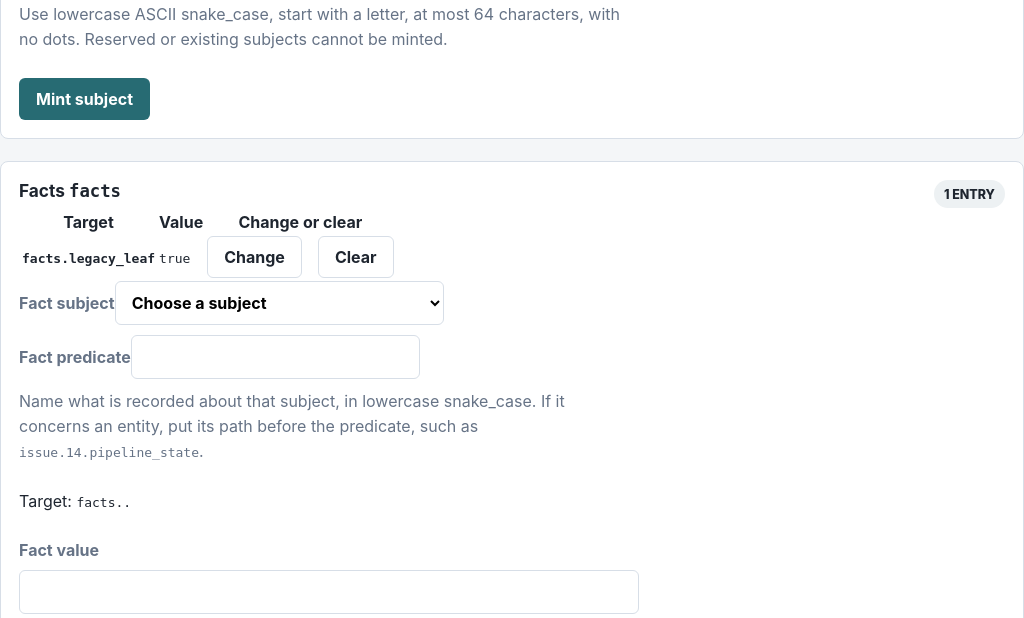
Test: refreshes reference counts after an authored value and again after its explicit clear
(page scrolled)
Select "teapot" in the dropdown labelled "Fact subject" at point(279, 303), box [115,281,444,325]
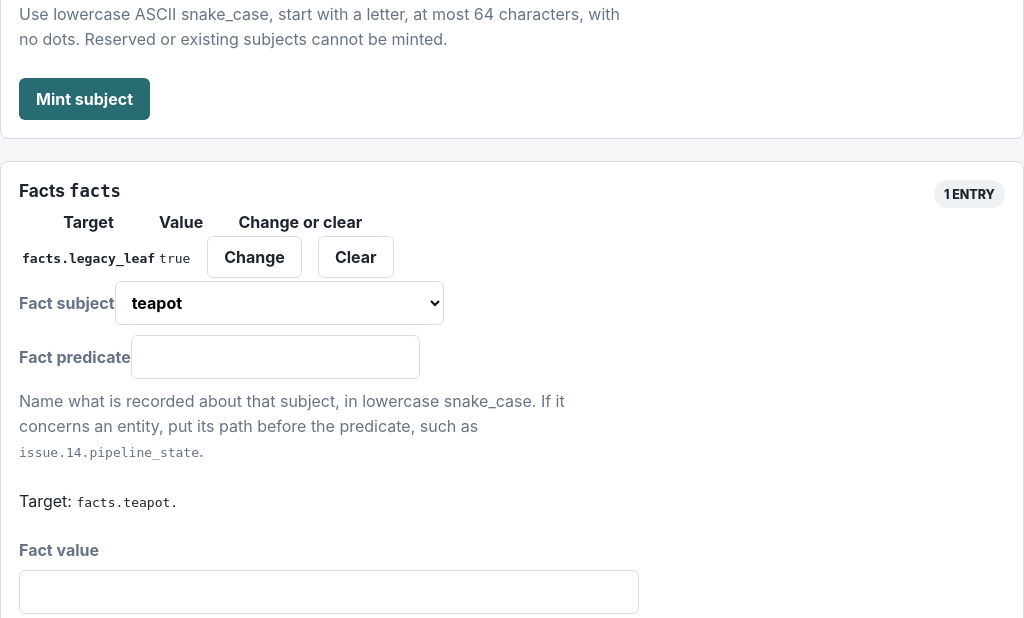
Type "ready" into the field labelled "Fact predicate".
click(275, 357); type("ready")  # box [131,335,420,379]
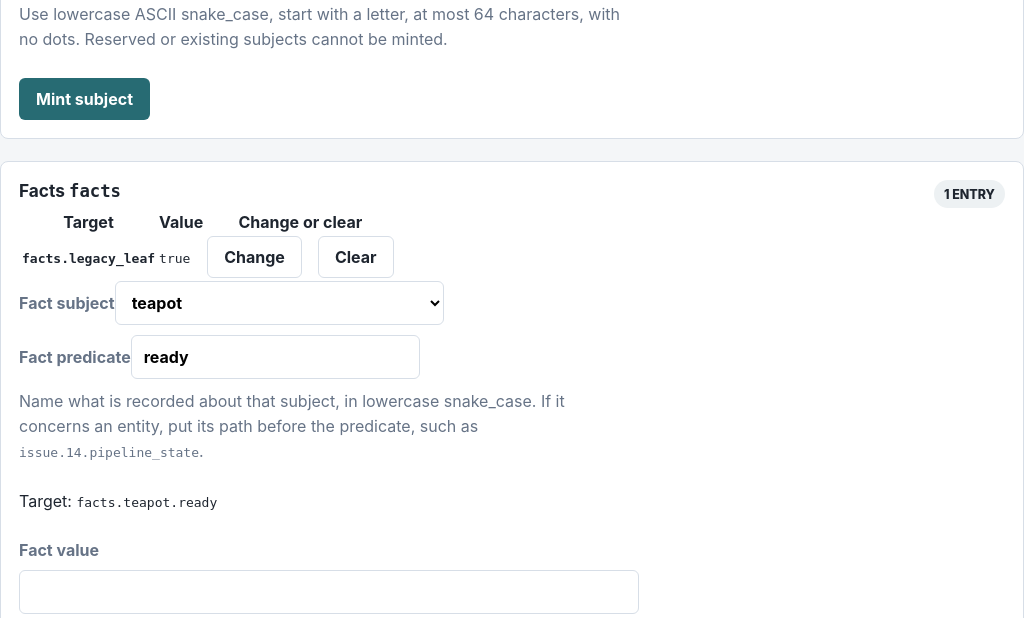
Type "true" into the field labelled "Fact value".
click(329, 592); type("true")  # box [19,570,639,614]
(page scrolled)
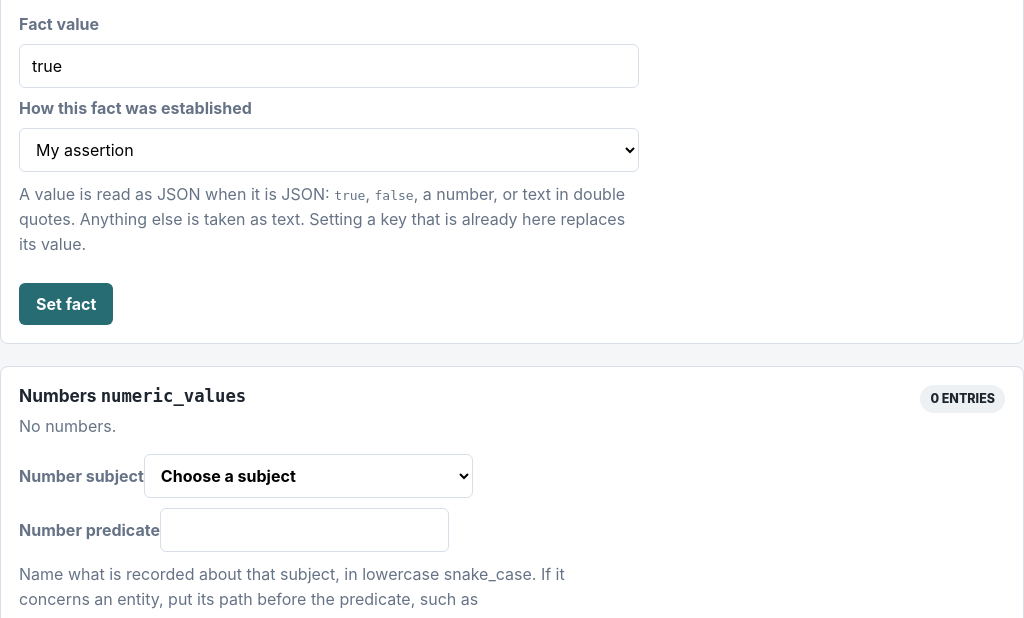
Click the button "Set fact".
click(66, 304)  # box [19,283,113,325]
(page scrolled)
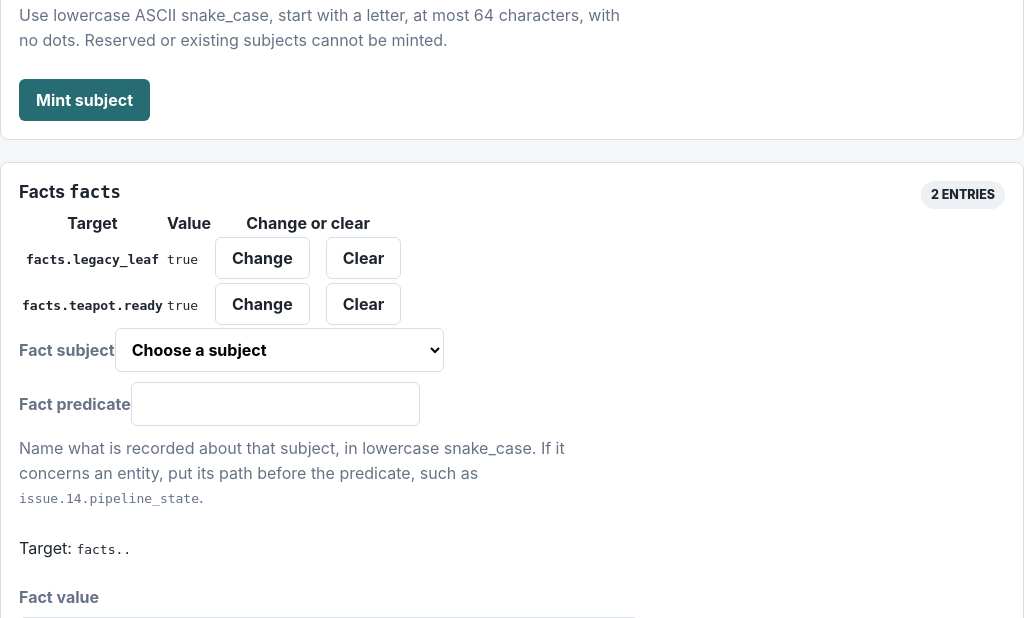
Expected: the row "facts.teapot.ready" is shown, [21,282,402,326]
Expected: the button with aria-label "Clear facts.teapot.ready" is enabled
Click the button with aria-label "Clear facts.teapot.ready".
click(364, 304)  # box [326,283,401,325]
(page scrolled)
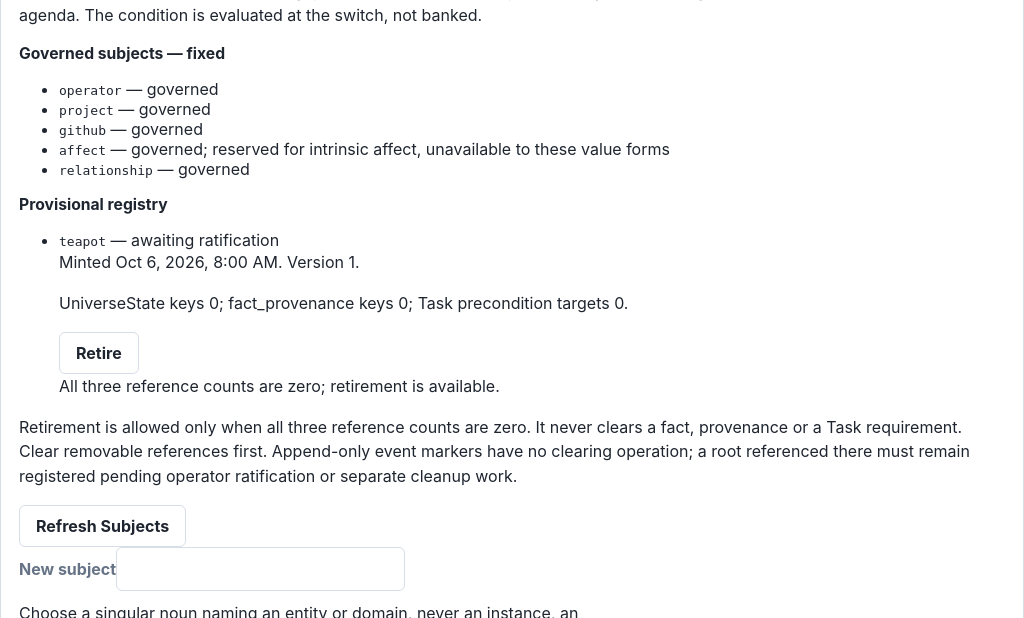
Expected: the button with aria-label "Retire subject teapot" is enabled, [59,332,139,374]
Expected: the text named "Reference counts for teapot" shows "UniverseState keys 0; fact_provenance keys 0; Task precondition targets 0", [59,293,628,313]
